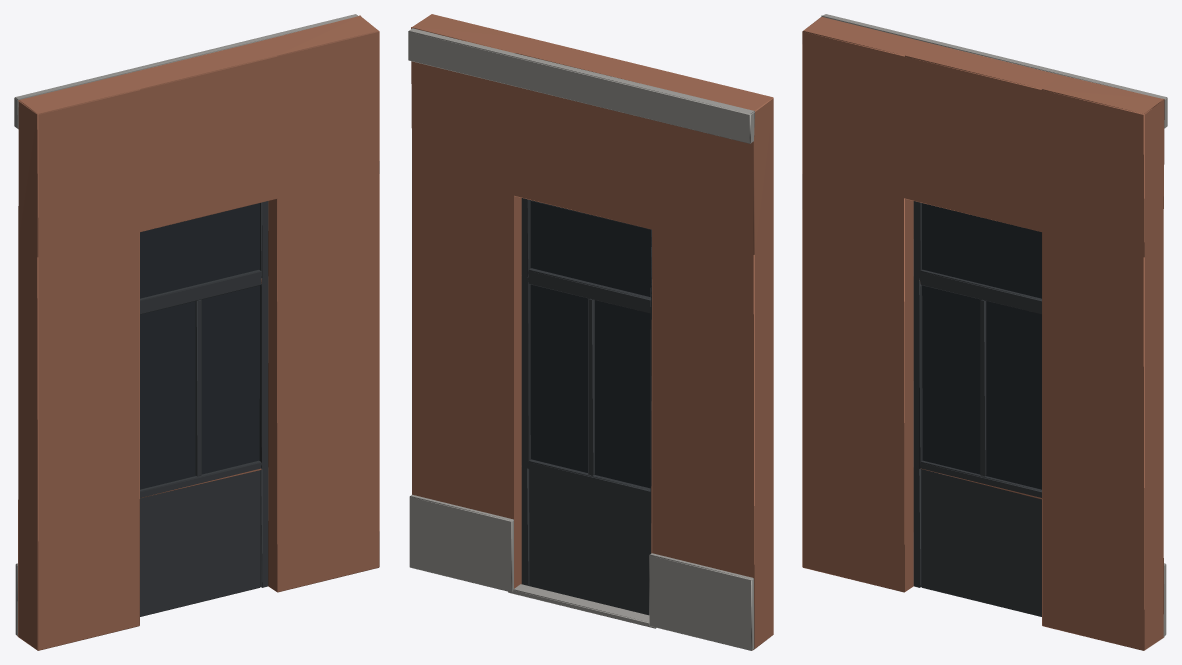
Rendered from SM_VB_FacB_GroundDoor.fbx.
3 renders of one model, left to right at view 1: azimuth 30°, elevation 25°; view 2: azimuth 150°, elevation 25°; view 3: azimuth 330°, elevation 25°, orthographic.
Visible parts, largest first — view 1: SM_VB_FacB_GroundDoor; view 2: SM_VB_FacB_GroundDoor; view 3: SM_VB_FacB_GroundDoor.
Part boxes in pixels (box(x1,y1,x2,y2)): SM_VB_FacB_GroundDoor: box(14, 14, 379, 650); SM_VB_FacB_GroundDoor: box(408, 14, 773, 650); SM_VB_FacB_GroundDoor: box(802, 14, 1167, 650).
Bounding box in the file's own units: 3.01 × 4.53 × 0.36.
